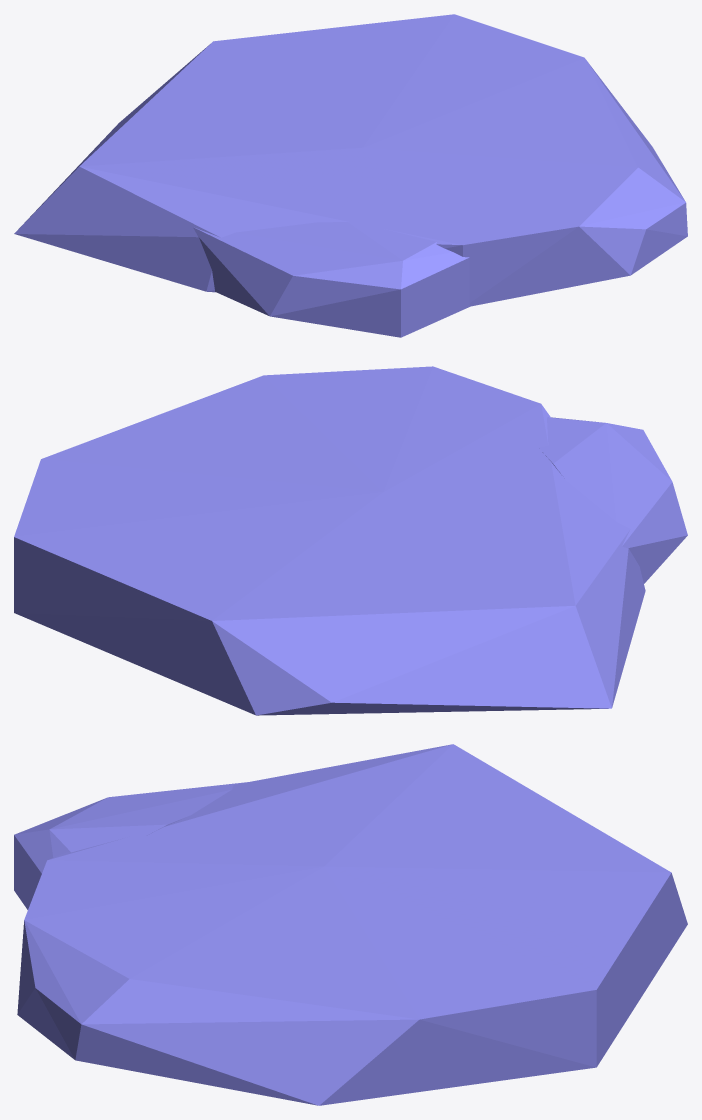
Rendered from Plate_04_Collider_01.FBX.
3 renders of one model, top to bottom at view 1: azimuth 30°, elevation 25°; view 2: azimuth 150°, elevation 25°; view 3: azimuth 270°, elevation 25°, orthographic. The views are drawn at different scales.
Visible parts, largest first — view 1: COLLIDER1, COLLIDER2; view 2: COLLIDER1, COLLIDER2; view 3: COLLIDER1, COLLIDER2.
Part boxes in pixels (left/top/right/bottom): COLLIDER1: left=14, top=14, right=687, bottom=306; COLLIDER2: left=193, top=222, right=469, bottom=337; COLLIDER1: left=14, top=366, right=645, bottom=715; COLLIDER2: left=538, top=417, right=687, bottom=583; COLLIDER1: left=17, top=744, right=687, bottom=1105; COLLIDER2: left=14, top=782, right=247, bottom=909.
Size of the model in its own units: 217 by 31.52 by 195.
